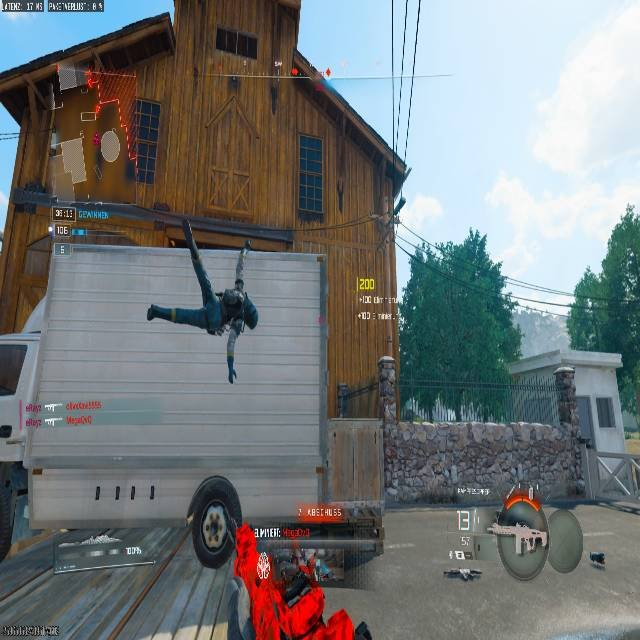head: (234, 278, 244, 290)
player: (146, 276, 258, 384), (195, 280, 264, 391), (213, 283, 261, 338), (377, 354, 397, 425), (442, 556, 482, 581)
